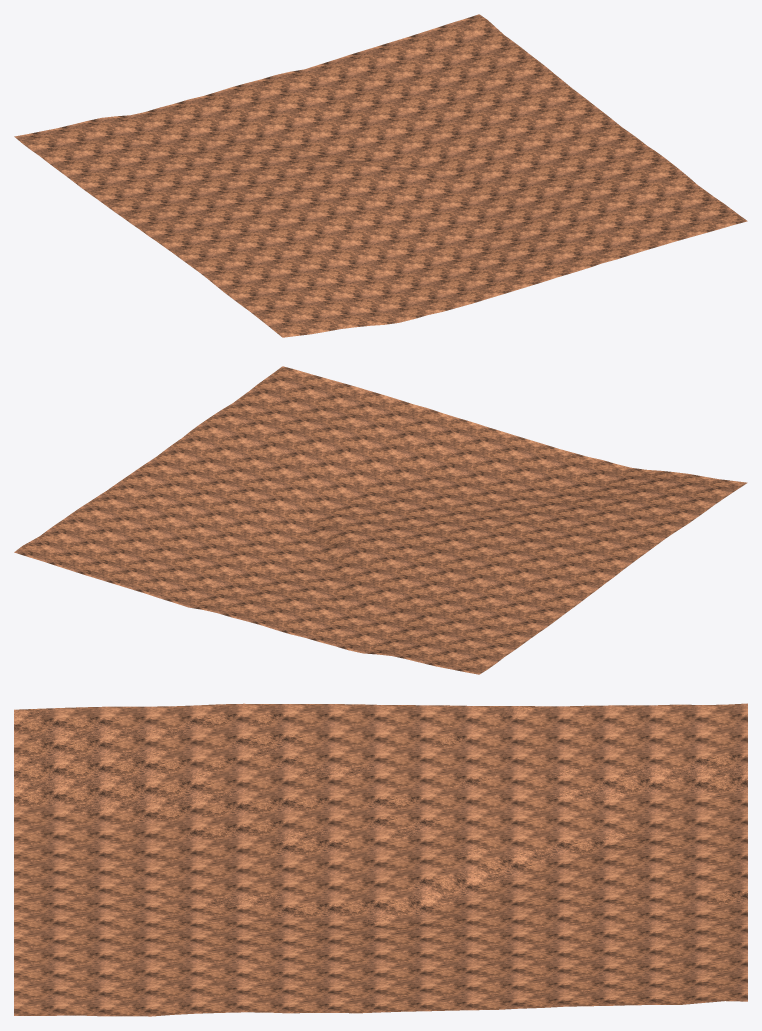
Rendered from terrain_11_15.dae.
3 renders of one model, top to bottom at view 1: azimuth 30°, elevation 25°; view 2: azimuth 150°, elevation 25°; view 3: azimuth 270°, elevation 25°, orthographic. The views are drawn at different scales.
Parts seen in each view (by area): view 1: terrain_11_15-node; view 2: terrain_11_15-node; view 3: terrain_11_15-node.
Boxes of the visible parts, box(x1,y1,x2,y2) form: terrain_11_15-node: box(14, 14, 747, 337); terrain_11_15-node: box(14, 366, 747, 674); terrain_11_15-node: box(14, 703, 747, 1016).
Bounding box in the file's own units: 128 × 128 × 7.16.
1 material, 1 textured.
